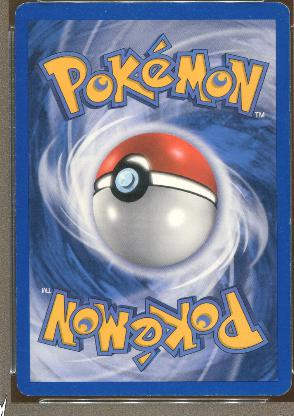Card: (12, 0, 292, 400)
Corner Wear: (272, 378, 290, 398), (15, 381, 35, 397), (13, 1, 31, 17), (276, 0, 289, 13)
Edge Wear: (76, 394, 227, 396), (15, 209, 17, 306), (288, 260, 290, 308), (287, 86, 289, 124), (287, 216, 290, 226)
Scratch: (101, 8, 108, 14)
